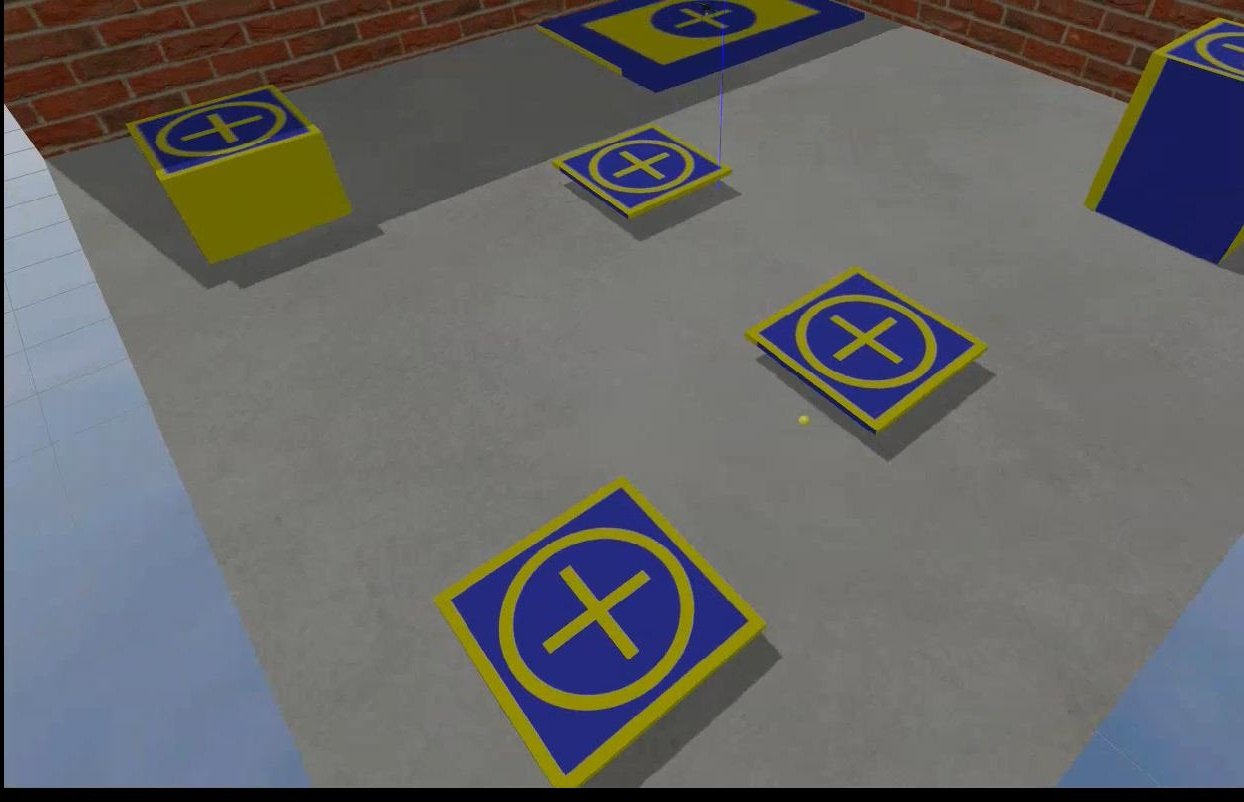large_base: (529, 1, 865, 94)
small_base: (433, 476, 764, 791), (742, 267, 988, 437), (122, 82, 324, 188), (549, 120, 731, 223), (1145, 19, 1242, 87)
